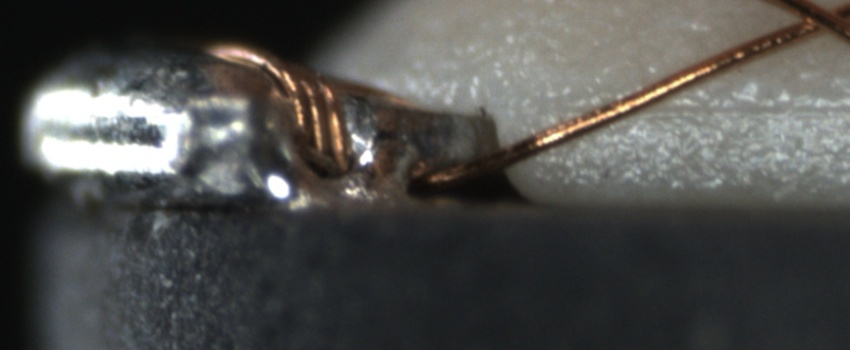CL: (770, 0, 847, 43)
DL: (575, 77, 850, 134)
TE: (205, 33, 375, 180)
